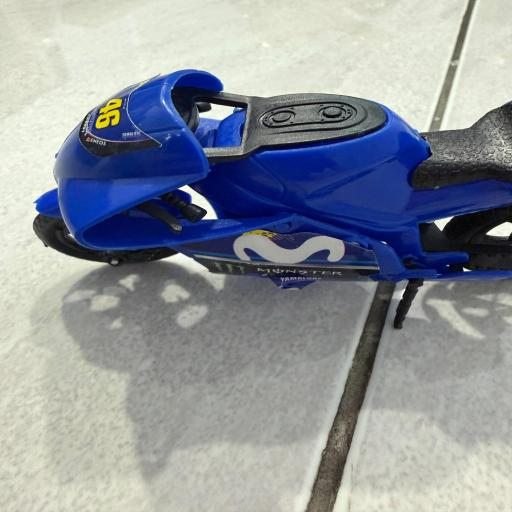motor-biru: (27, 64, 512, 332)
